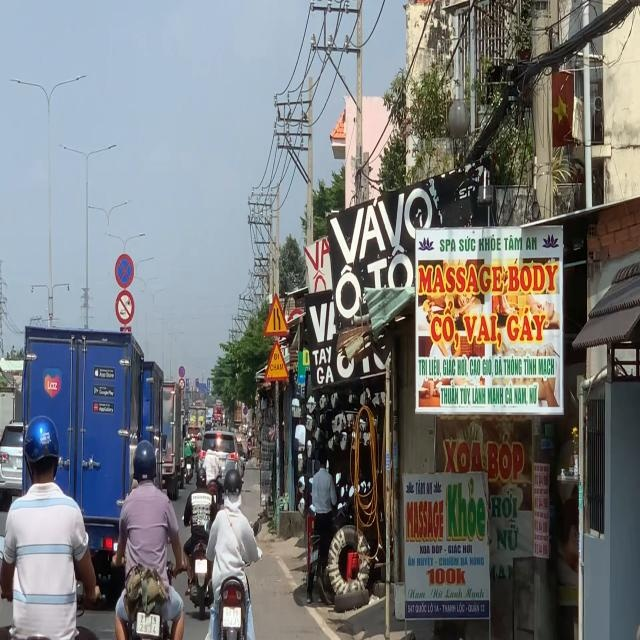bien_cam: (263, 292, 290, 338), (264, 339, 290, 382), (114, 252, 135, 291)
